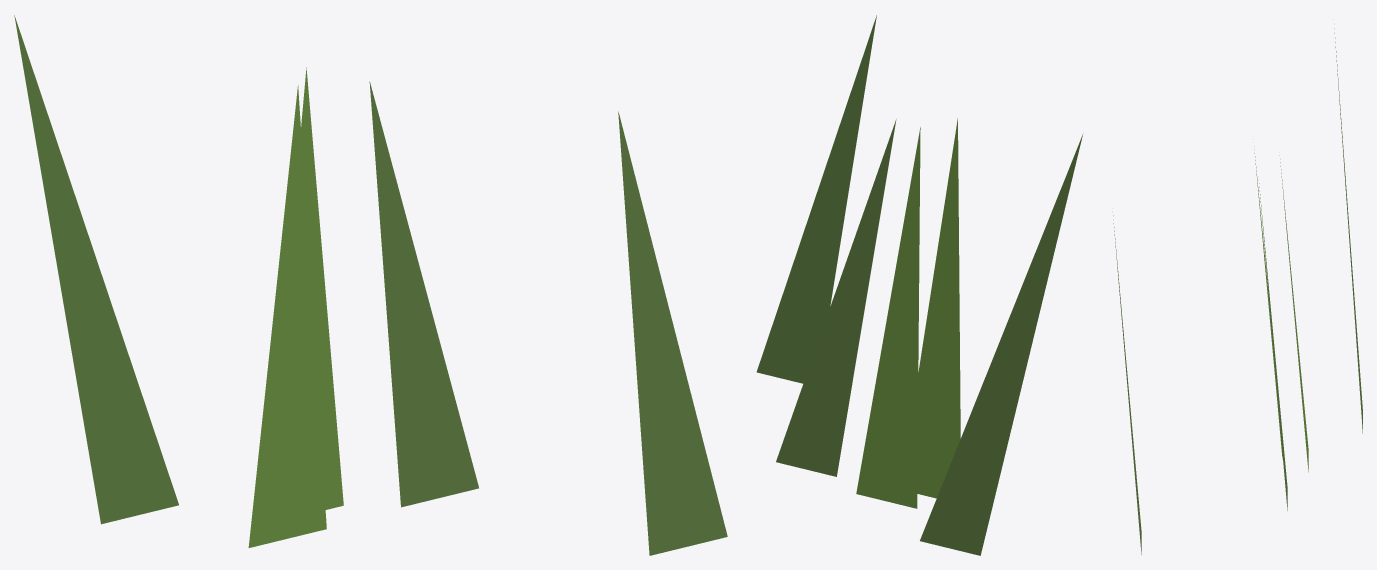
The model's file is grass_verge_lod1.obj.
The picture shows the model from 3 angles, left to right: view 1: azimuth 30°, elevation 25°; view 2: azimuth 150°, elevation 25°; view 3: azimuth 270°, elevation 25°; orthographic projection. The views are drawn at different scales.
Parts seen in each view (by area): view 1: grass_verge_lod1; view 2: grass_verge_lod1; view 3: grass_verge_lod1.
Part boxes in pixels (bbox=[...]): grass_verge_lod1: bbox=[14, 15, 727, 555]; grass_verge_lod1: bbox=[756, 15, 1083, 555]; grass_verge_lod1: bbox=[1113, 28, 1362, 554].
Bounding box in the file's own units: 0.5793 × 0.5407 × 0.3402.
1 material, 1 textured.
